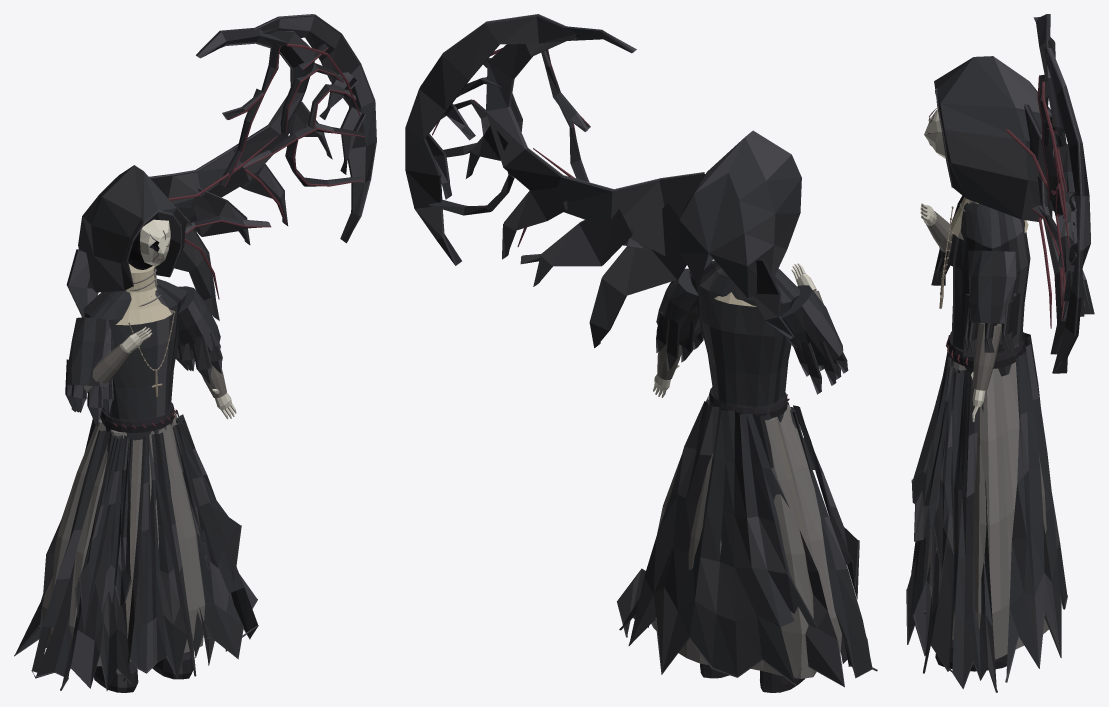
File: boss_nun_blockout.glb
The picture shows the model from 3 angles, left to right: view 1: azimuth 30°, elevation 25°; view 2: azimuth 150°, elevation 25°; view 3: azimuth 270°, elevation 25°; orthographic projection. The views are drawn at different scales.
Parts seen in each view (by area): view 1: Torn layered habit, Riven crescent veil, Bodice and cowl, Pointed hood, Opaque ash underskirt, Sleeves and hands, Devotional mask, Boots and legs; view 2: Torn layered habit, Riven crescent veil, Pointed hood, Bodice and cowl, Opaque ash underskirt, Sleeves and hands, Boots and legs; view 3: Torn layered habit, Pointed hood, Riven crescent veil, Opaque ash underskirt, Sleeves and hands, Bodice and cowl, Devotional mask, Boots and legs, Rosary.
Part boxes in pixels (box(x1,y1,x2,y2)): Torn layered habit: box(14, 409, 258, 690); Riven crescent veil: box(149, 14, 376, 320); Bodice and cowl: box(83, 264, 187, 440); Pointed hood: box(66, 165, 186, 317); Opaque ash underskirt: box(42, 412, 205, 666); Sleeves and hands: box(65, 286, 236, 425); Devotional mask: box(128, 214, 170, 269); Boots and legs: box(94, 651, 193, 692); Torn layered habit: box(617, 395, 877, 687); Riven crescent veil: box(405, 14, 705, 347); Pointed hood: box(679, 130, 801, 339); Bodice and cowl: box(689, 260, 800, 422); Opaque ash underskirt: box(651, 396, 841, 678); Sleeves and hands: box(653, 263, 848, 397); Boots and legs: box(700, 663, 805, 692); Torn layered habit: box(906, 332, 1067, 692); Pointed hood: box(934, 56, 1056, 221); Riven crescent veil: box(1006, 14, 1094, 373); Opaque ash underskirt: box(926, 358, 1048, 659); Sleeves and hands: box(920, 195, 1020, 421); Bodice and cowl: box(946, 197, 1030, 376); Devotional mask: box(924, 108, 945, 158); Boots and legs: box(935, 640, 1007, 671); Rosary: box(939, 206, 953, 308).
Size of the model in its own units: 1.58 by 2.31 by 0.5663.
